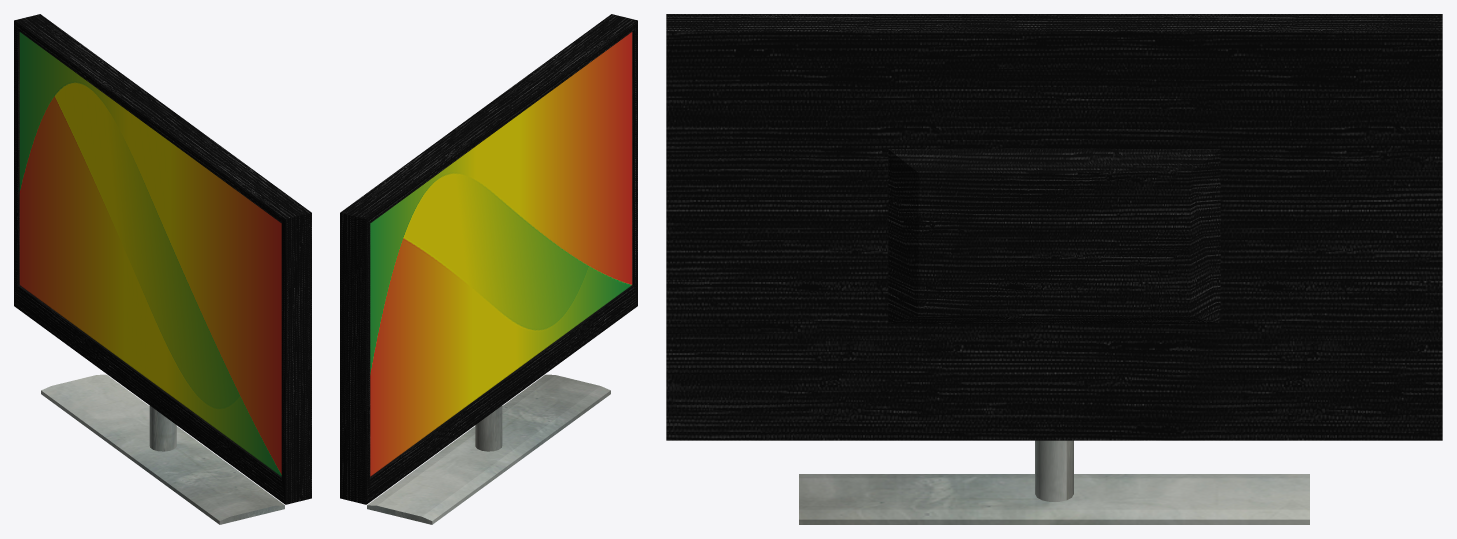
3 renders of one model, left to right at view 1: azimuth 30°, elevation 25°; view 2: azimuth 150°, elevation 25°; view 3: azimuth 270°, elevation 25°, orthographic. The views are drawn at different scales.
Visible parts, largest first — view 1: tv; view 2: tv; view 3: tv.
Part boxes in pixels (x1=…): tv: x1=14, y1=14, x2=311, y2=524; tv: x1=340, y1=14, x2=637, y2=524; tv: x1=666, y1=14, x2=1442, y2=524.
Bounding box in the file's own units: 0.3667 × 1.8 × 2.64.
